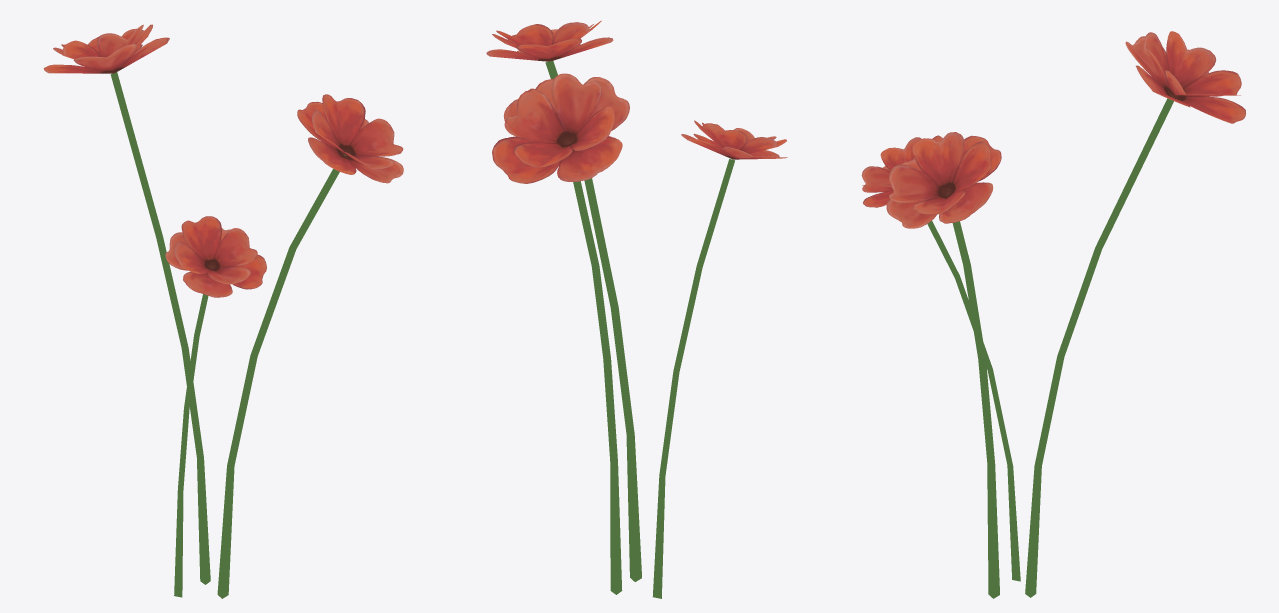
Rendered from MEADOW_SM_Flower_01_01.gltf.
3 views of the same model, side by side, from view 1: azimuth 30°, elevation 25°; view 2: azimuth 150°, elevation 25°; view 3: azimuth 270°, elevation 25° (orthographic). The views are drawn at different scales.
Visible parts, largest first — view 1: SM_Flower_01_01_LOD0; view 2: SM_Flower_01_01_LOD0; view 3: SM_Flower_01_01_LOD0.
Boxes of the visible parts, x1,y1,x2,y2 form: SM_Flower_01_01_LOD0: (43, 24, 403, 598); SM_Flower_01_01_LOD0: (486, 20, 787, 598); SM_Flower_01_01_LOD0: (861, 31, 1245, 598).
Bounding box in the file's own units: 0.3557 × 0.6541 × 0.451.
1 material, 1 textured.
